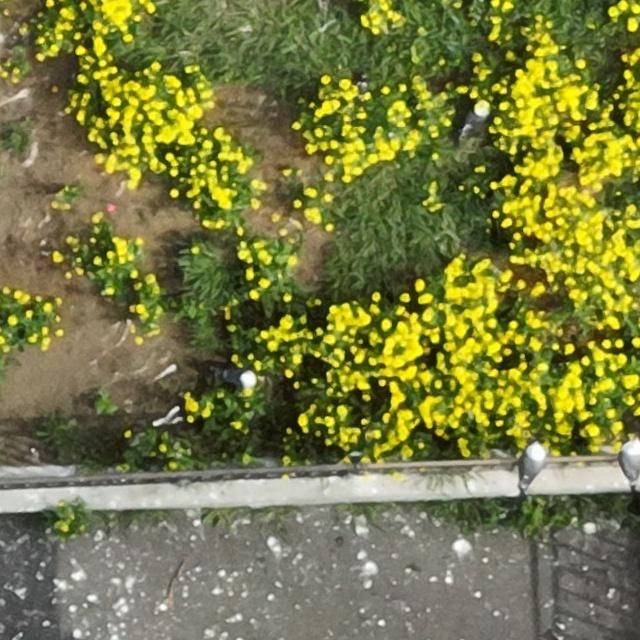umineko: (524, 444, 546, 484), (461, 105, 488, 136), (621, 440, 640, 483), (217, 367, 253, 386)
